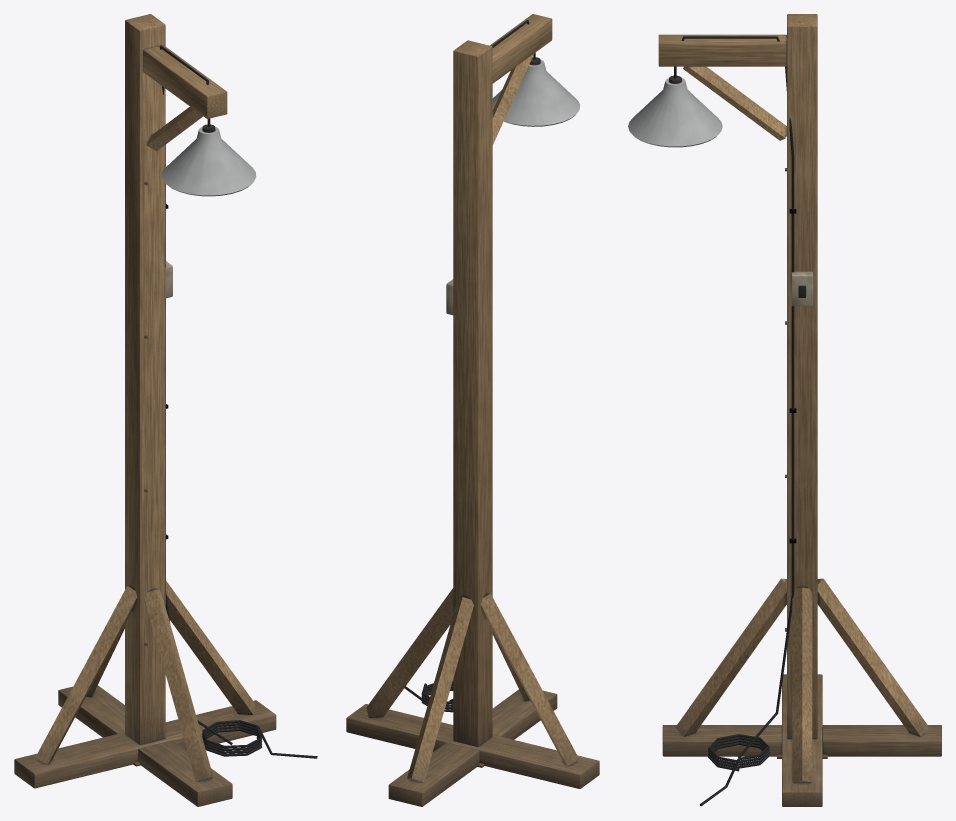
The model's file is lampada_poste.glb.
3 views of the same model, side by side, from view 1: azimuth 30°, elevation 25°; view 2: azimuth 150°, elevation 25°; view 3: azimuth 270°, elevation 25° (orthographic). The views are drawn at different scales.
Parts seen in each view (by area): view 1: poste, luminaria; view 2: poste, luminaria; view 3: poste, luminaria.
Part boxes in pixels (box(x1,y1,x2,y2)): poste: box(14, 14, 276, 806); luminaria: box(159, 45, 317, 758); poste: box(346, 14, 599, 806); luminaria: box(404, 20, 580, 712); poste: box(658, 14, 941, 806); luminaria: box(628, 36, 813, 806).
Bounding box in the file's own units: 0.6618 × 1.9 × 0.742.
Materials: 1 (1 with a texture image).
